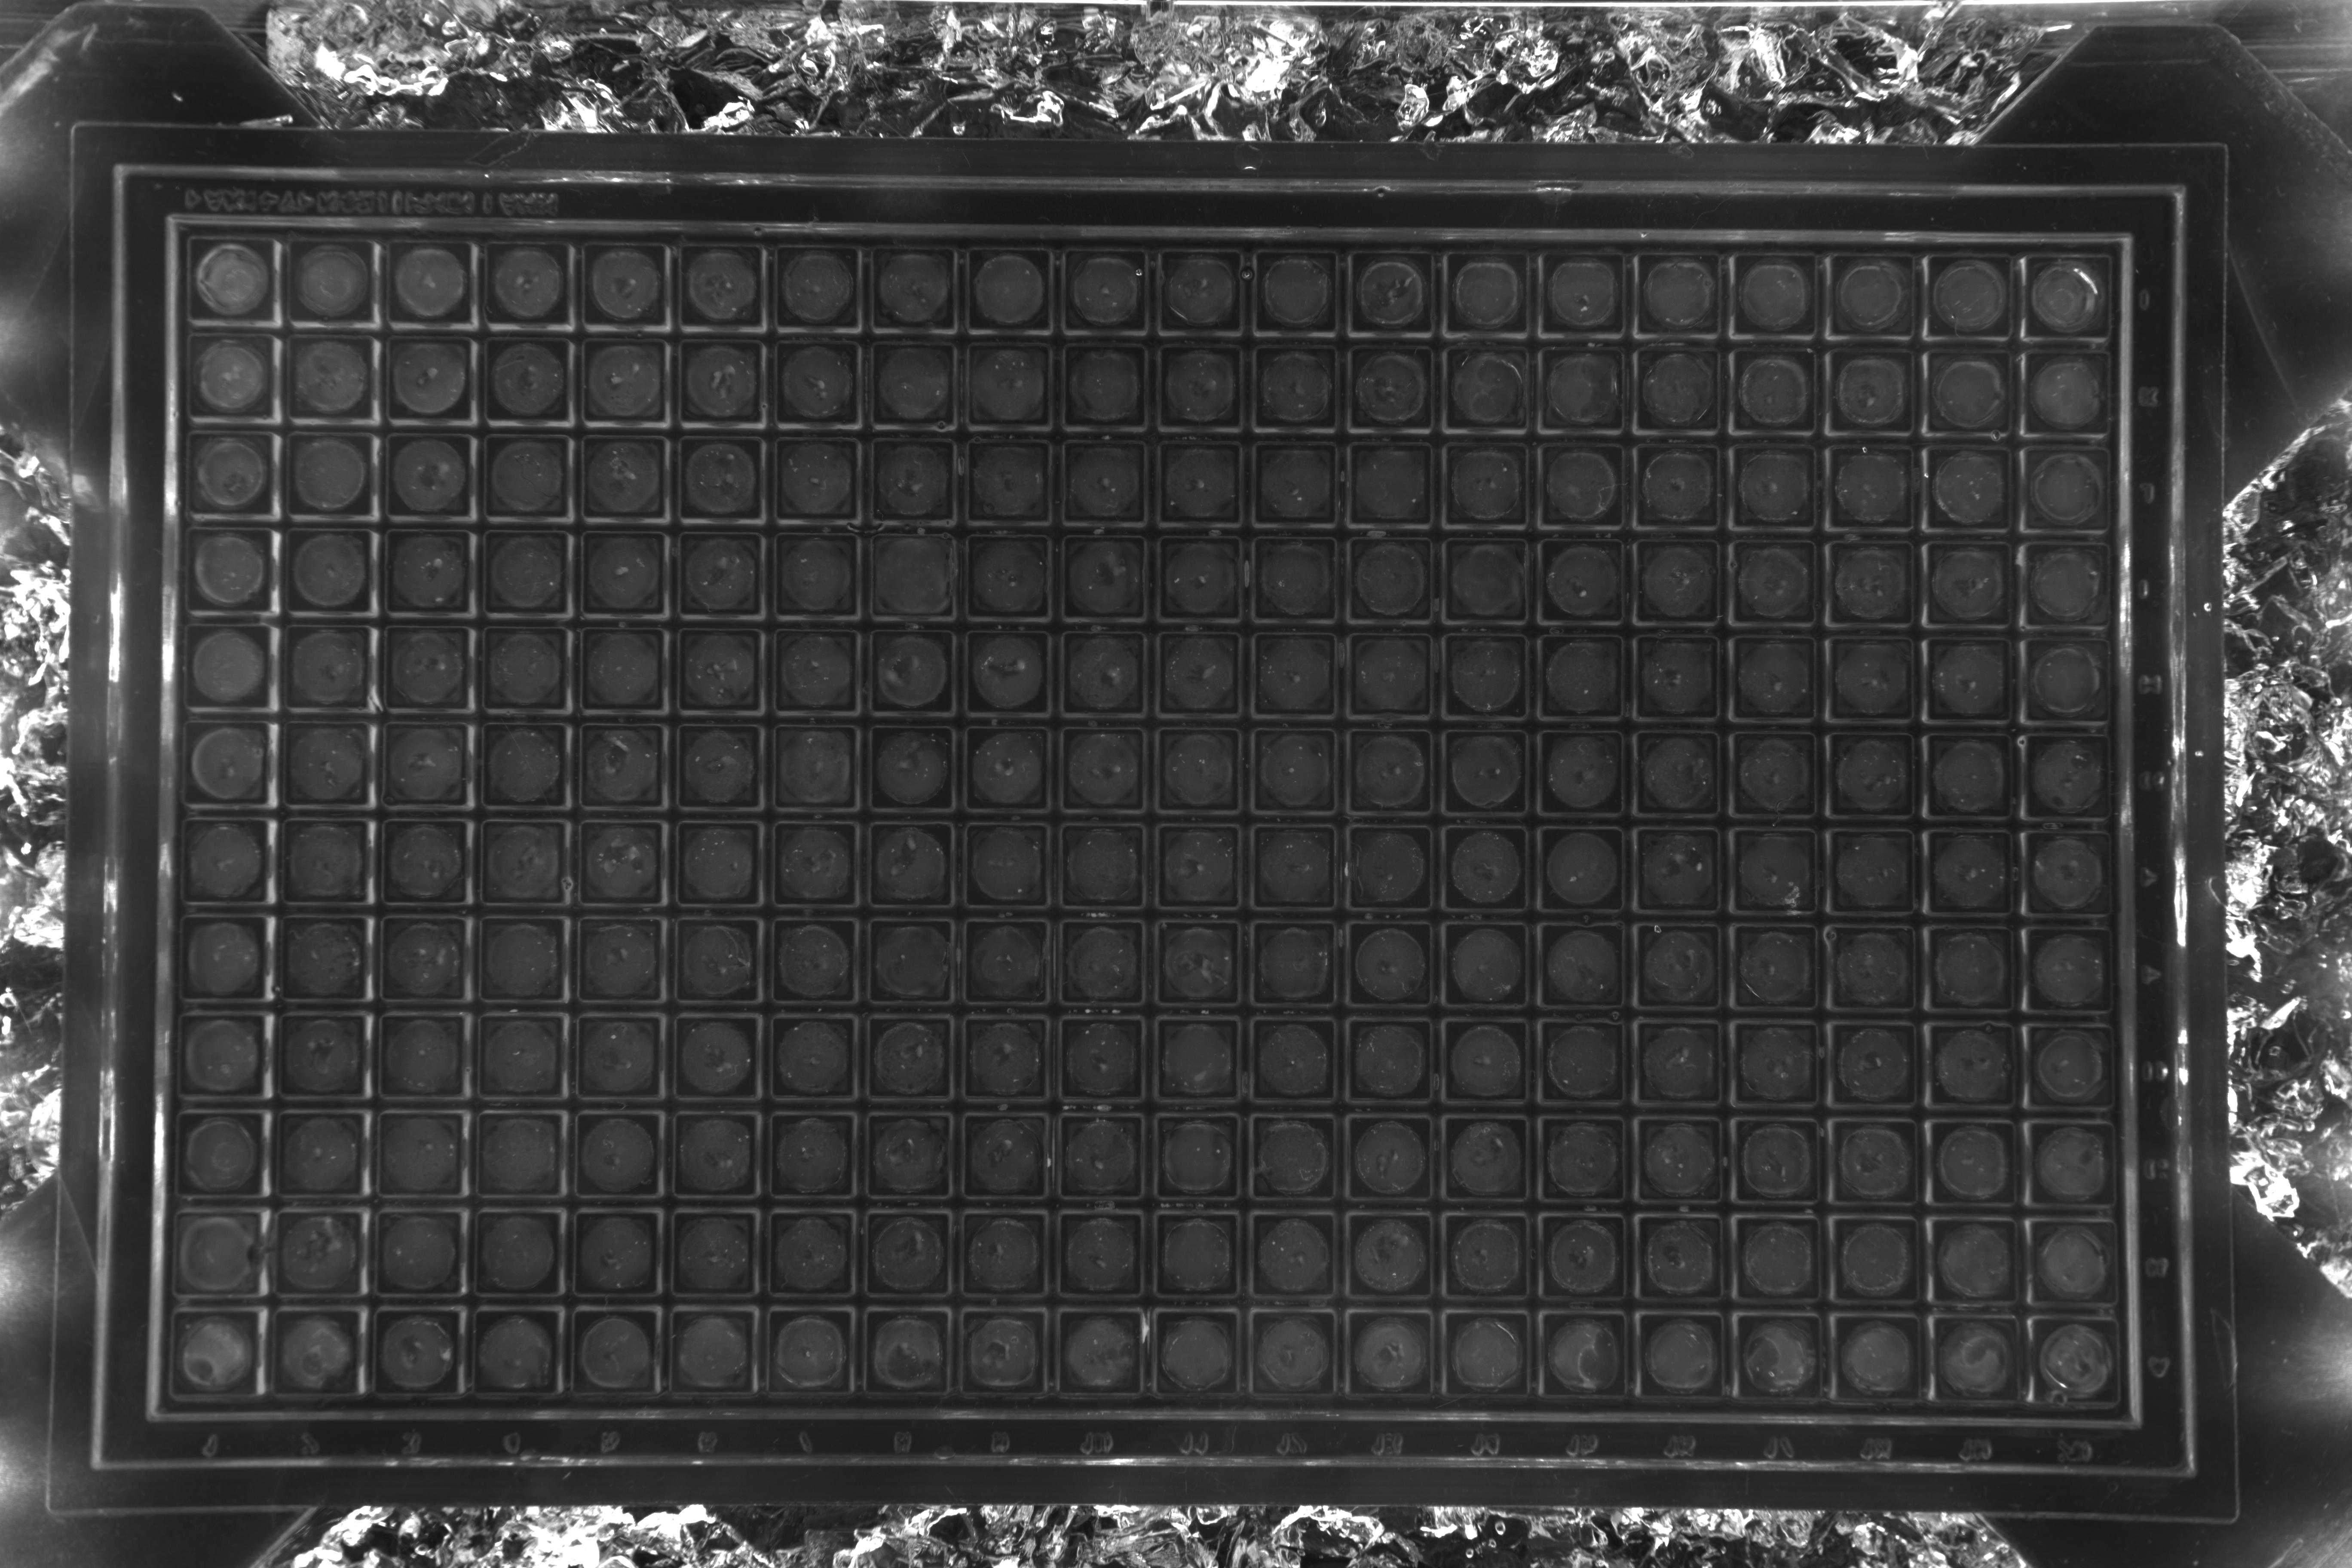WM_well: (203, 651, 292, 738), (397, 847, 486, 934), (497, 362, 586, 450), (588, 1143, 677, 1230), (1862, 1052, 1951, 1139), (199, 945, 287, 1032), (205, 262, 292, 350), (205, 360, 292, 448), (401, 264, 488, 352), (499, 458, 586, 546), (588, 1241, 675, 1328), (693, 654, 780, 742), (884, 1141, 971, 1228), (1080, 464, 1167, 551), (1080, 560, 1167, 647), (1272, 656, 1360, 744), (1274, 1339, 1361, 1426), (1368, 560, 1456, 647), (1370, 656, 1458, 744), (1370, 1046, 1458, 1134), (1664, 950, 1752, 1038), (1759, 366, 1846, 453), (1960, 756, 2047, 843)
